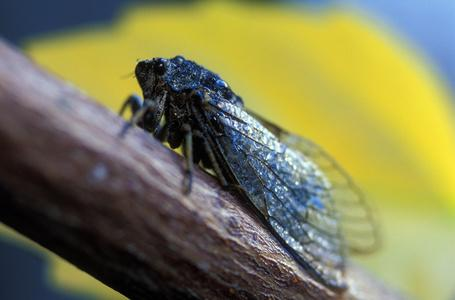Cicadellidae: (126, 56, 382, 292)
